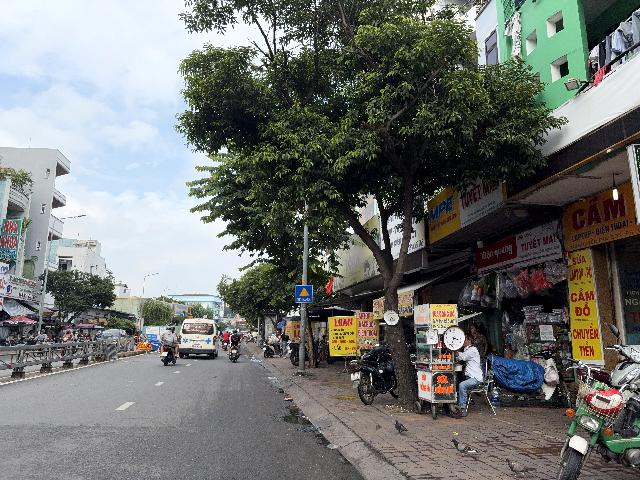khu-vuc-cho-phia-truoc: (295, 285, 313, 303)
